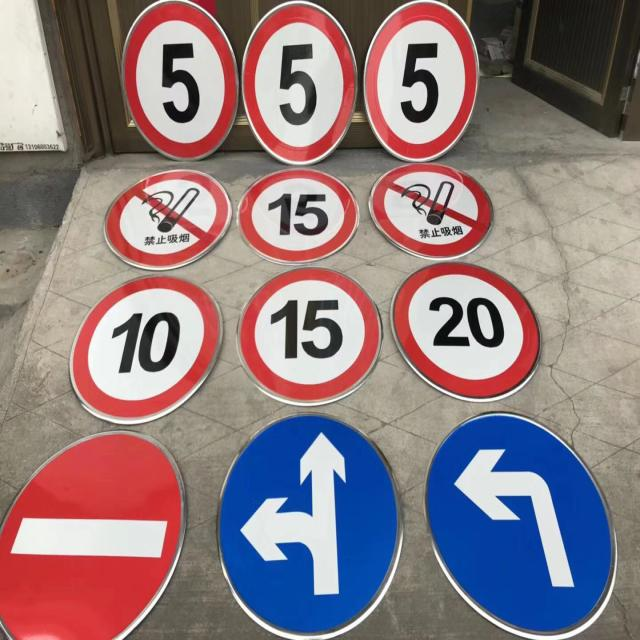speed limit 10: (70, 276, 221, 423), (359, 0, 478, 165), (240, 0, 356, 166), (123, 0, 237, 161)
speed limit 20: (389, 261, 541, 402), (235, 268, 383, 407), (236, 170, 361, 263)
